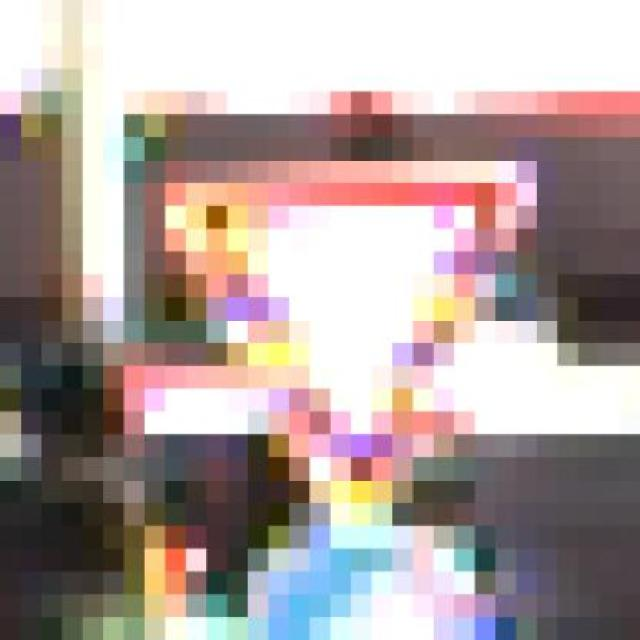Give Way: (124, 114, 578, 572)
